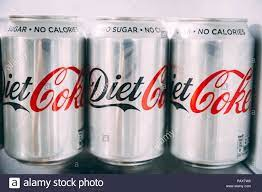can: (1, 12, 86, 166), (173, 11, 254, 170), (87, 13, 170, 166)
